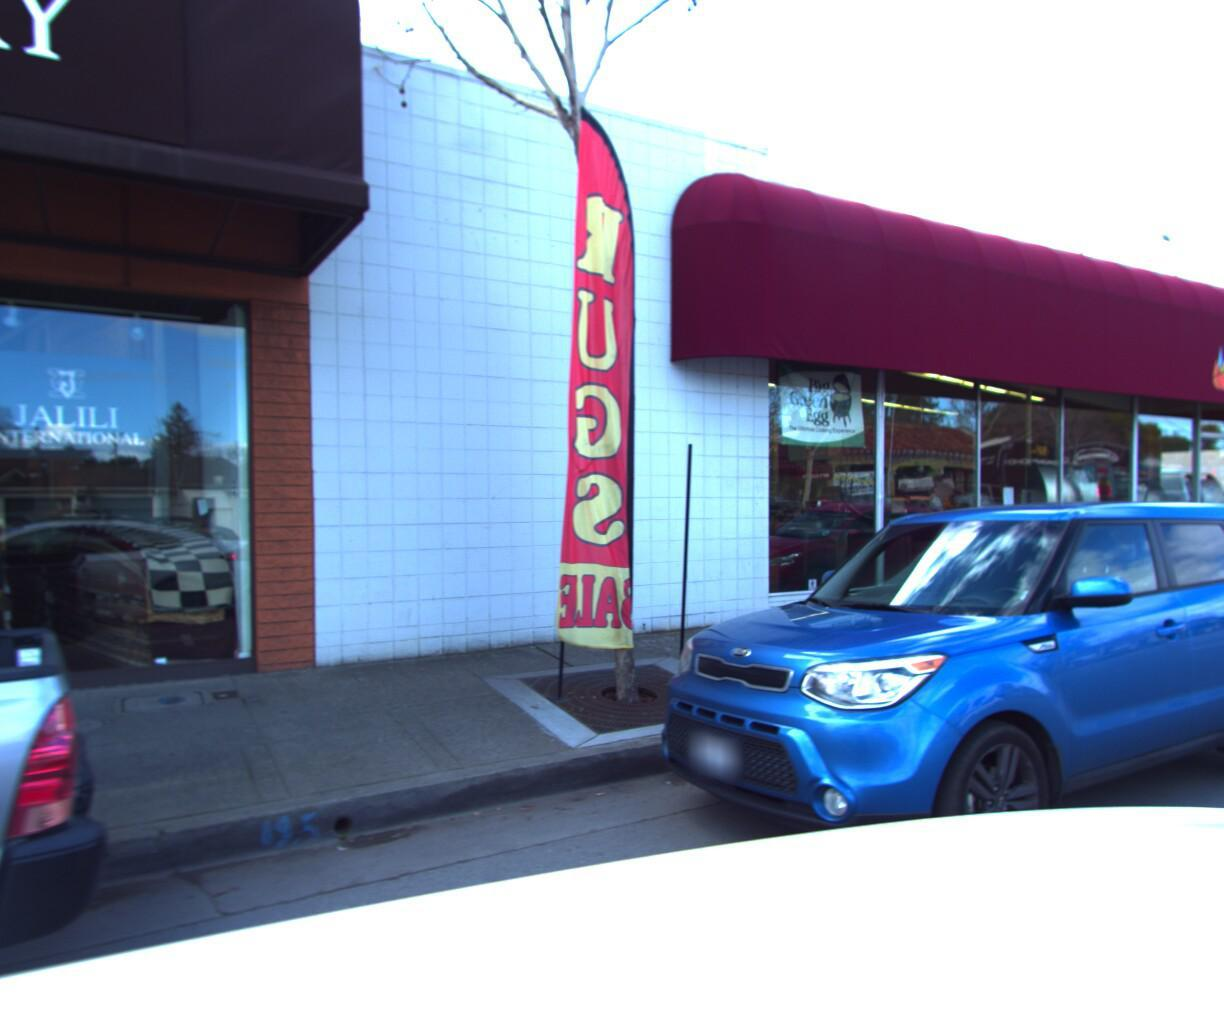car: (622, 494, 1224, 911), (991, 460, 1201, 536)
